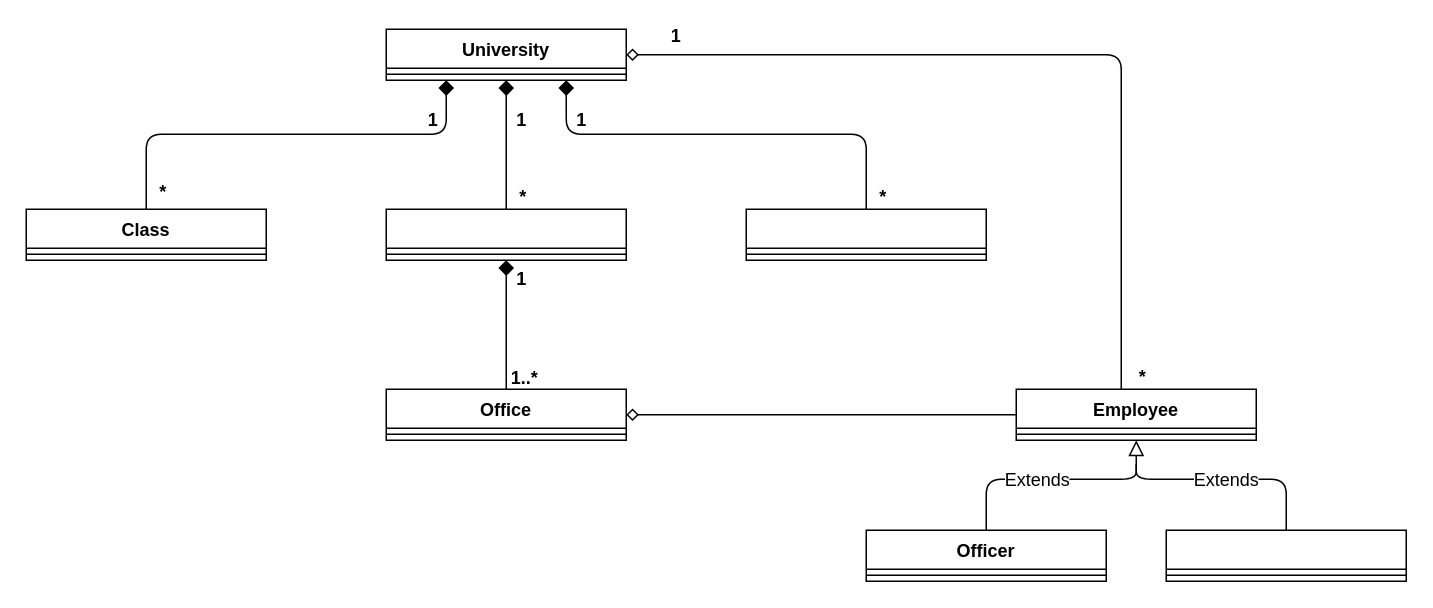
This 1433x608 diagram has some shape labels left out. Here are the shapes that lost their labels. From the top down, the centre of each, then its label:
(505,234): Department
(865,234): Work Offices
(1285,555): Professor
